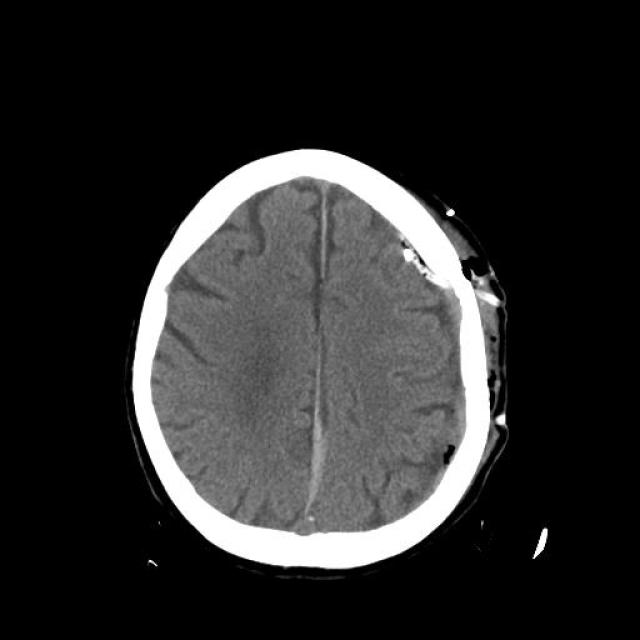Subdural: (280, 390, 369, 550)
